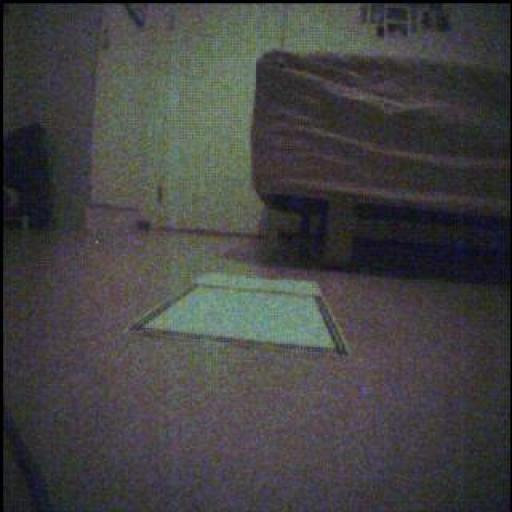pad: (132, 275, 350, 356)
